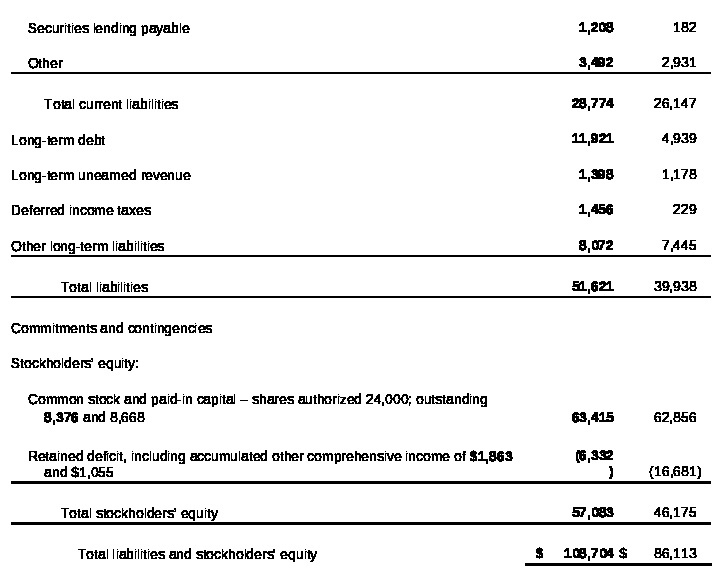table: (0, 0, 723, 580)
